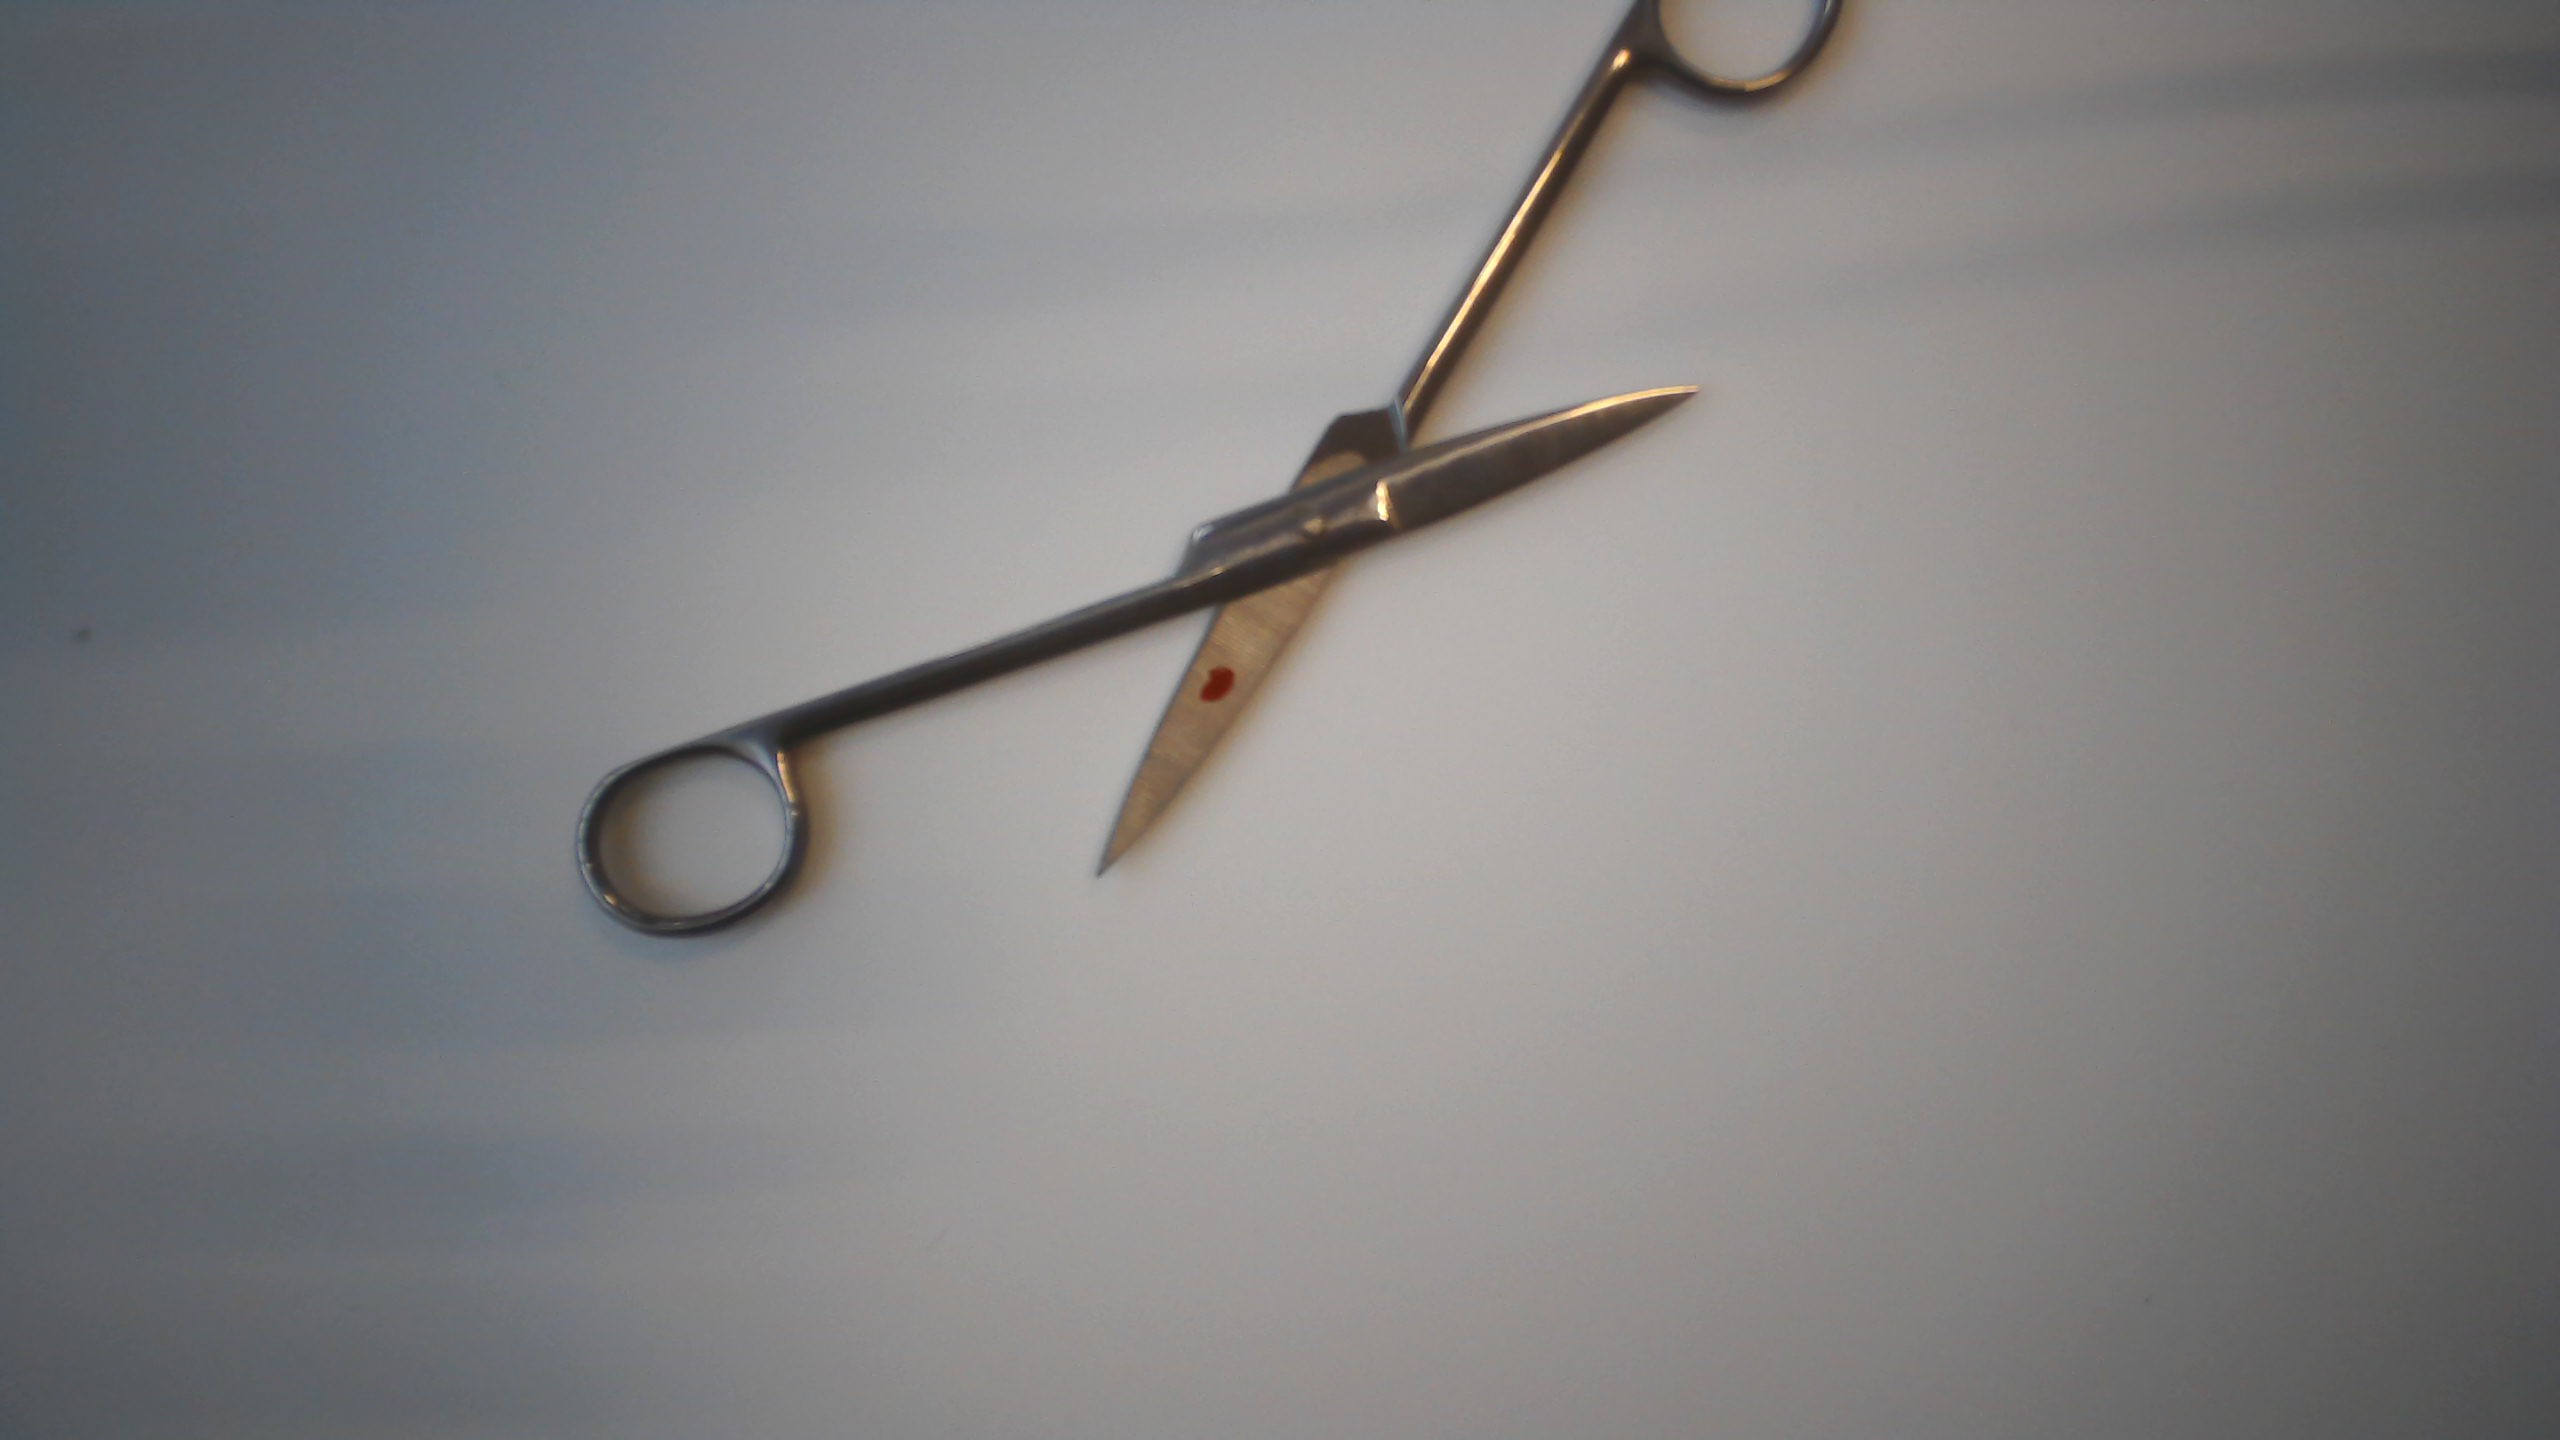Stain: (1189, 652, 1247, 717)
